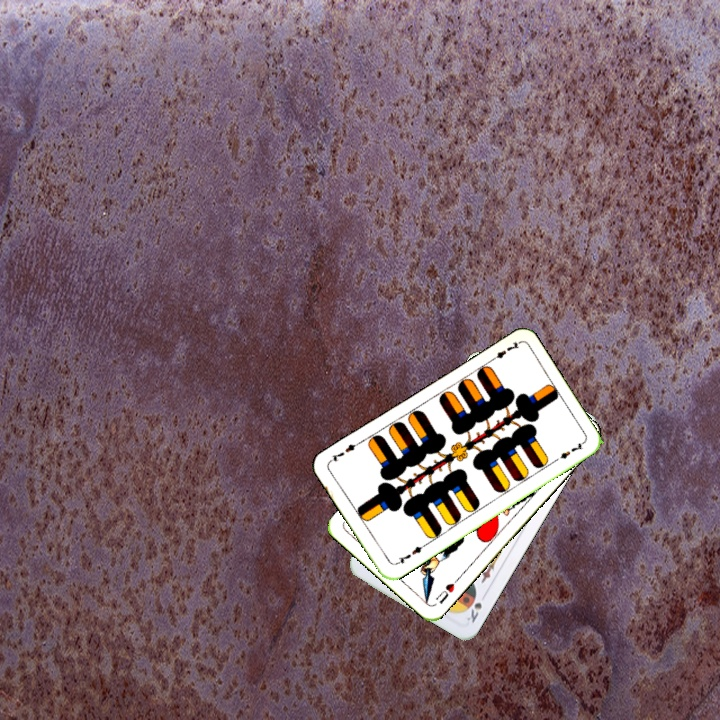E7: (485, 338, 522, 365), (391, 541, 428, 567)
HU: (432, 574, 462, 606)
SK: (462, 598, 484, 626)
